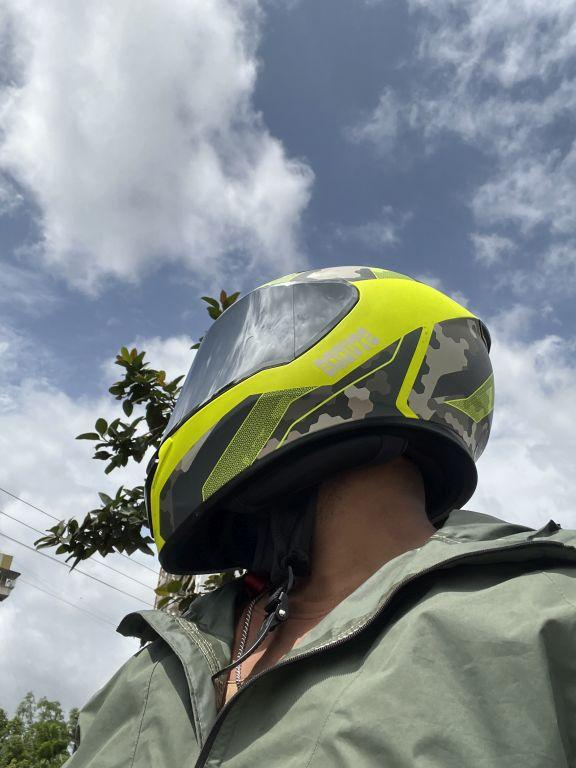helmet: (132, 259, 512, 585)
